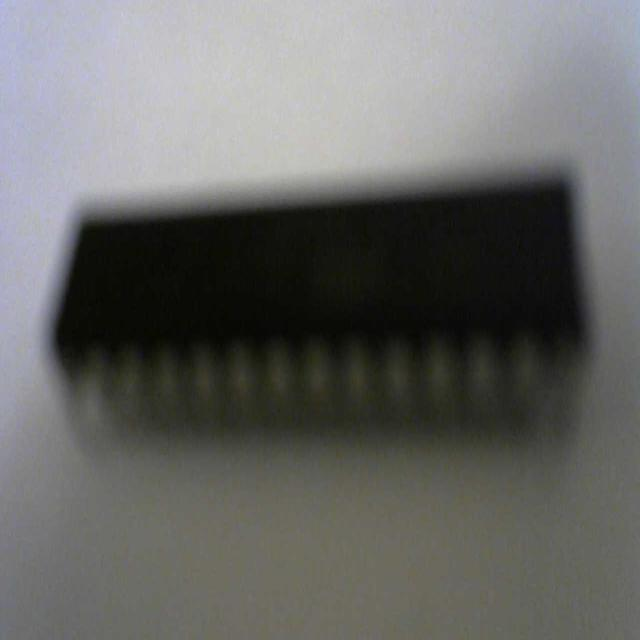atmega: (49, 169, 594, 452)
